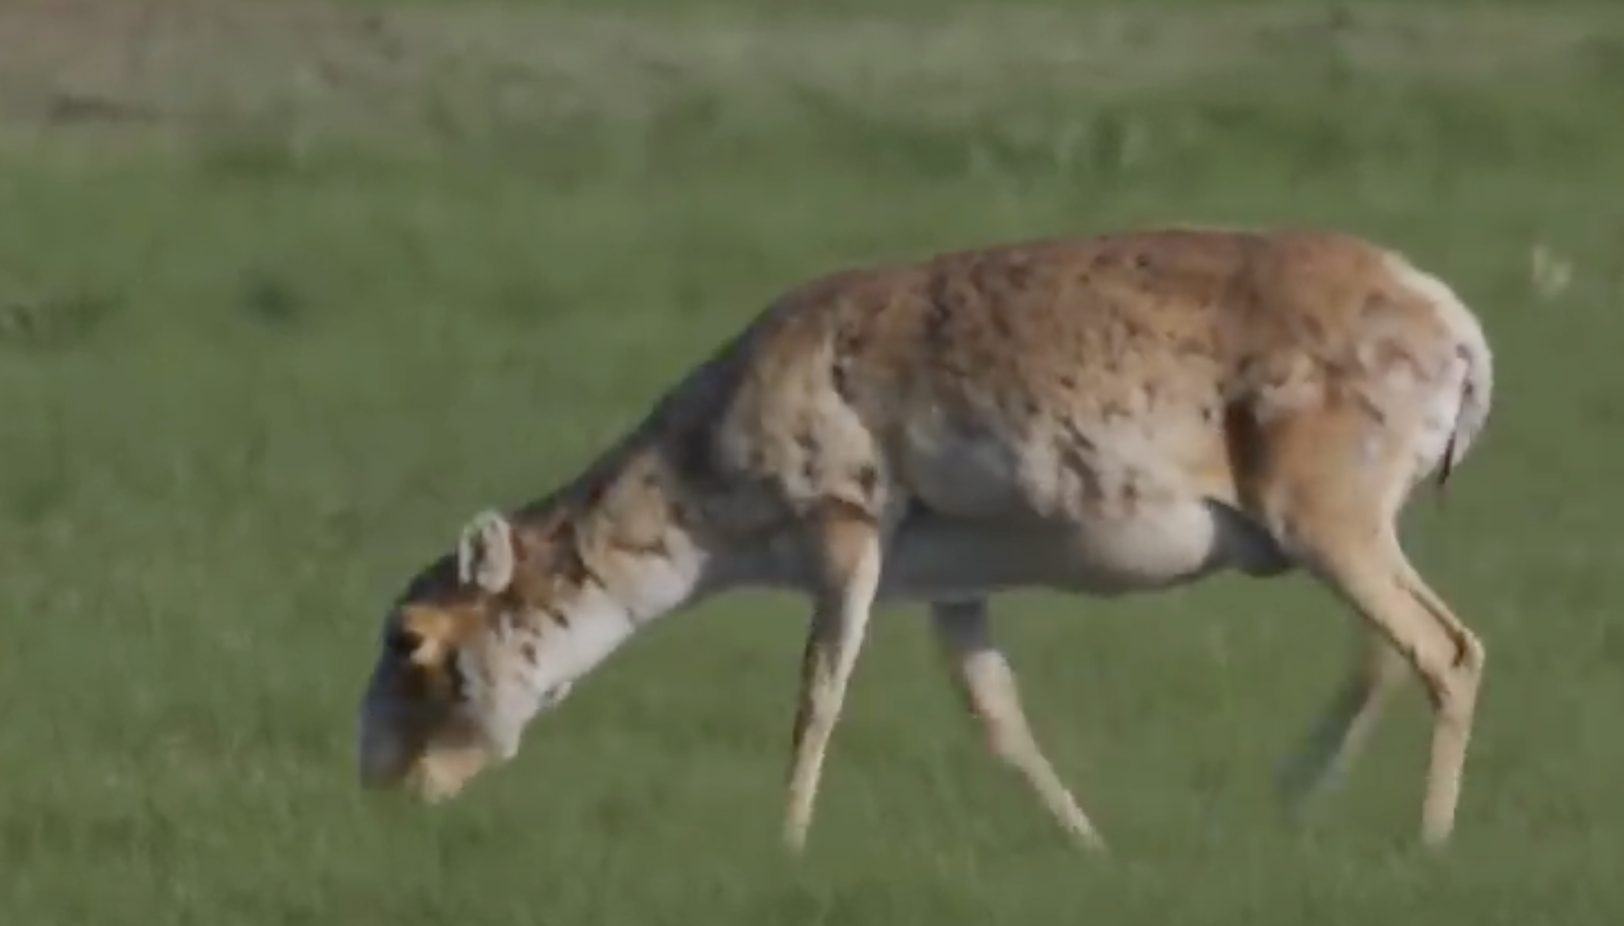saiga: (378, 239, 1458, 852)
